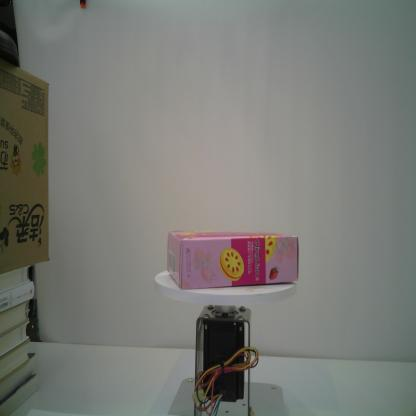Dessert: (166, 229, 301, 292)
